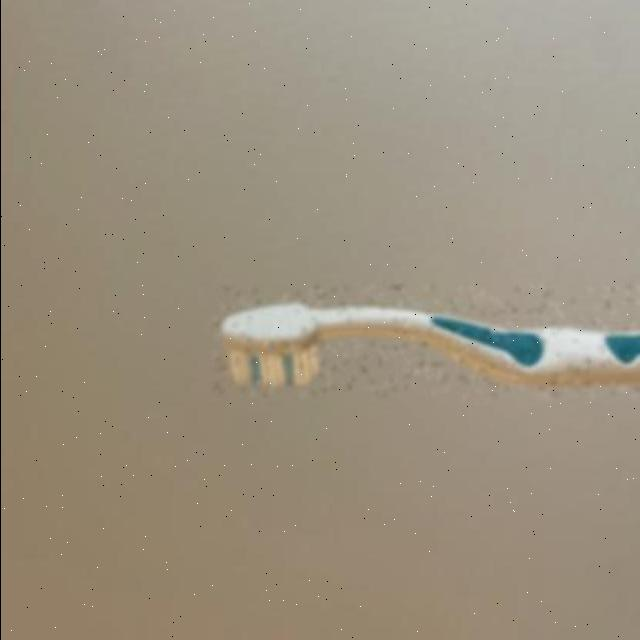toothbrush: (214, 287, 640, 397)
